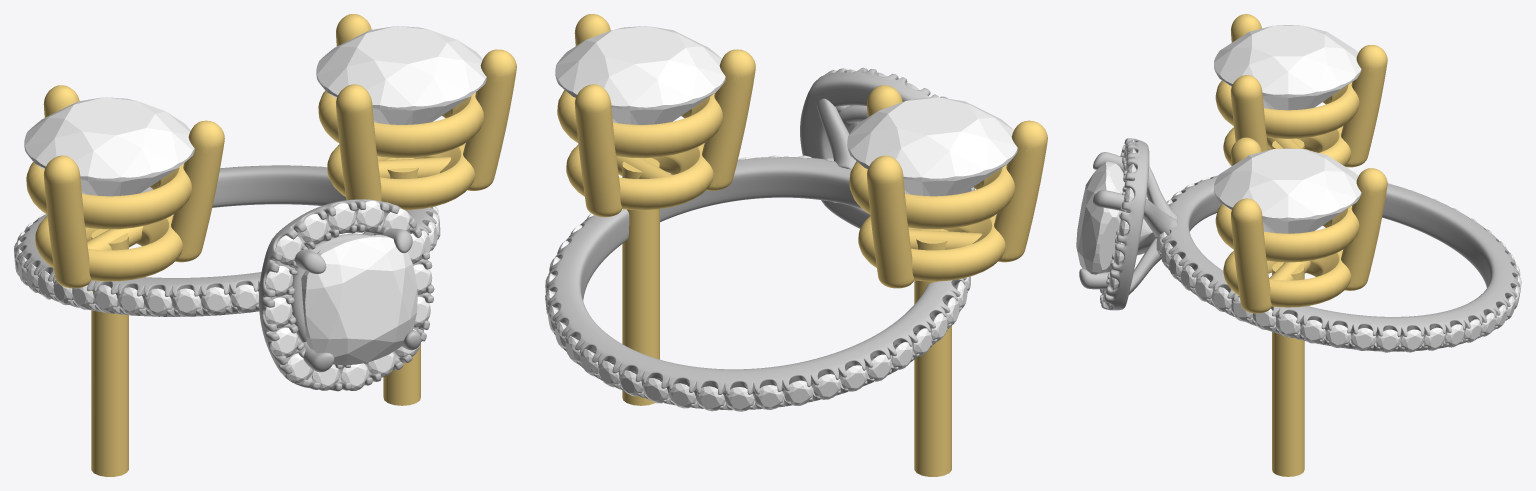
3 renders of one model, left to right at view 1: azimuth 30°, elevation 25°; view 2: azimuth 150°, elevation 25°; view 3: azimuth 270°, elevation 25°, orthographic. The views are drawn at different scales.
Visible parts, largest first — view 1: Adam_YG_for_3d_model, ring-compare, Adam_ruby_for_3d_model001, Adam_ruby_for_3d_model, alliance, entourage, dia041, dia040, dia042, diamond_side_cuchion_014, diamond_side_cuchion_008, diamond_side_cuchion_013 (+7 smaller); view 2: Adam_YG_for_3d_model, alliance, Adam_ruby_for_3d_model, Adam_ruby_for_3d_model001, entourage, dia027, dia028, dia026, dia029, dia025, dia024; view 3: Adam_YG_for_3d_model, alliance, Adam_ruby_for_3d_model, Adam_ruby_for_3d_model001, entourage, ring-compare.
Boxes of the visible parts, x1,y1,x2,y2 form: Adam_YG_for_3d_model: (26,14,516,476); ring-compare: (301,235,417,365); Adam_ruby_for_3d_model001: (24,97,194,196); Adam_ruby_for_3d_model: (316,26,486,124); alliance: (15,165,437,316); entourage: (259,199,434,391); dia041: (201,287,230,315); dia040: (172,288,200,316); dia042: (231,284,258,312); diamond_side_cuchion_014: (271,327,298,357); diamond_side_cuchion_008: (356,200,384,231); diamond_side_cuchion_013: (264,297,292,328); Adam_YG_for_3d_model: (557,14,1047,476); alliance: (546,156,967,410); Adam_ruby_for_3d_model: (555,26,725,124); Adam_ruby_for_3d_model001: (847,97,1017,196); entourage: (800,67,974,228); dia027: (754,385,783,409); dia028: (784,380,813,405); dia026: (725,387,754,411); dia029: (813,374,841,399); dia025: (696,386,724,411); dia024: (668,383,695,408); Adam_YG_for_3d_model: (1215,14,1387,476); alliance: (1159,175,1520,351); Adam_ruby_for_3d_model: (1214,148,1361,233); Adam_ruby_for_3d_model001: (1214,25,1361,110); entourage: (1079,138,1177,310); ring-compare: (1076,161,1153,274).
Size of the model in its own units: 3.11 by 2.24 by 2.96.
